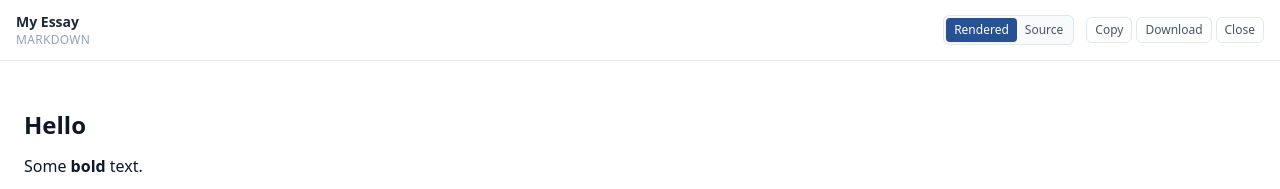
Test case: ArtifactViewer › toggling to source view shows the raw content as text
The image size is (1280, 189).
Step 1. Click the button "Source" → (1044, 30), box [1017,18,1071,42]
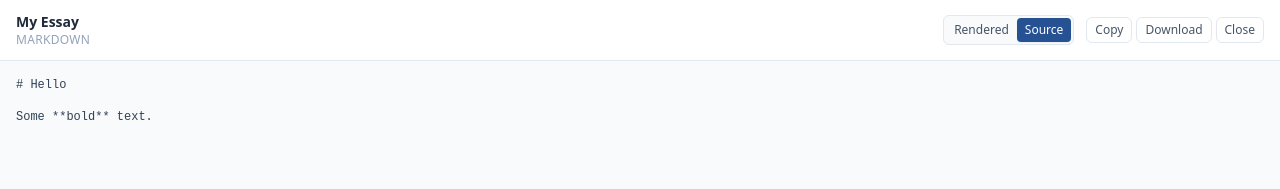
Result: the text "# Hello Some **bold** text." is shown at [16,78,153,124]
